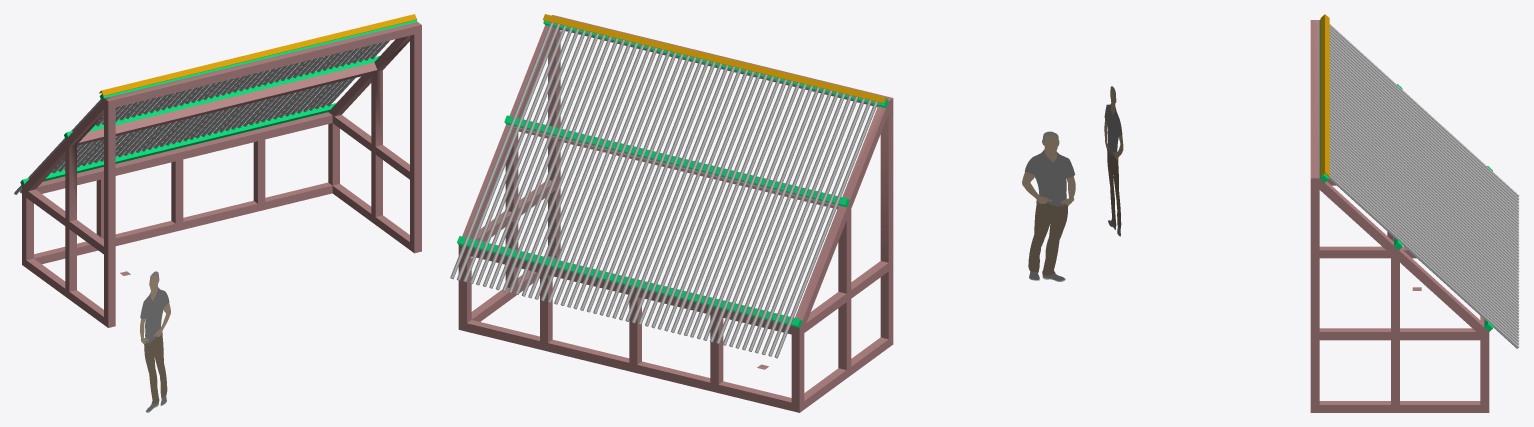
The model's file is grizzly.glb.
3 renders of one model, left to right at view 1: azimuth 30°, elevation 25°; view 2: azimuth 150°, elevation 25°; view 3: azimuth 270°, elevation 25°, orthographic. The views are drawn at different scales.
Parts seen in each view (by area): view 1: Layers, JUMBOSTEELS, SCREEN, TOPBAR; view 2: JUMBOSTEELS, Layers, SCREEN, TOPBAR; view 3: JUMBOSTEELS, Layers, TOPBAR, SCREEN.
Boxes of the visible parts, x1=… form: Layers: x1=22, y1=22, x2=421, y2=412; JUMBOSTEELS: x1=14, y1=40, x2=389, y2=194; SCREEN: x1=20, y1=20, x2=417, y2=186; TOPBAR: x1=99, y1=14, x2=416, y2=96; JUMBOSTEELS: x1=450, y1=22, x2=878, y2=358; Layers: x1=458, y1=15, x2=1075, y2=412; SCREEN: x1=457, y1=20, x2=888, y2=327; TOPBAR: x1=542, y1=14, x2=887, y2=103; JUMBOSTEELS: x1=1328, y1=24, x2=1519, y2=348; Layers: x1=1104, y1=20, x2=1489, y2=412; TOPBAR: x1=1320, y1=14, x2=1329, y2=176; SCREEN: x1=1319, y1=19, x2=1492, y2=331.
Bounding box in the file's own units: 5.11 × 2.98 × 4.65.
